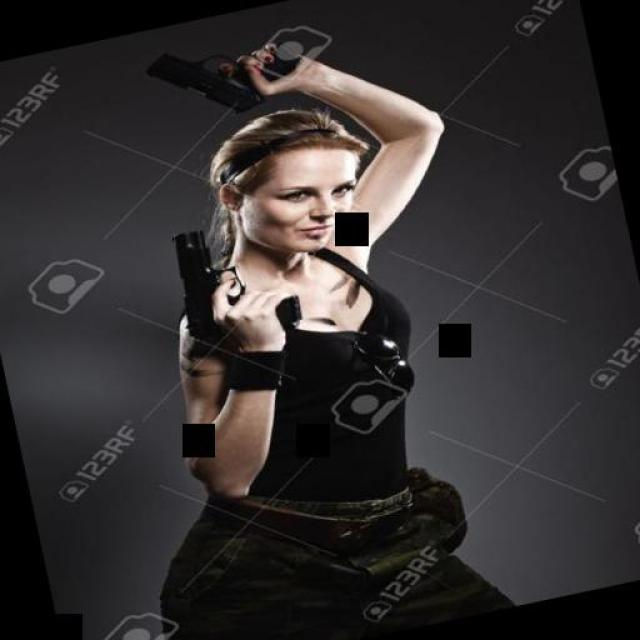gun: (162, 209, 308, 351), (137, 15, 315, 129)
